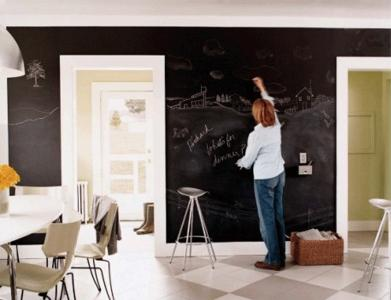person: (239, 77, 288, 271)
